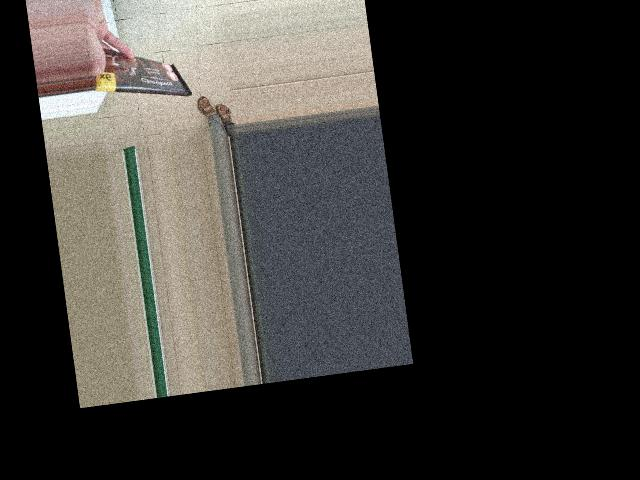chocolate: (123, 2, 215, 111)
